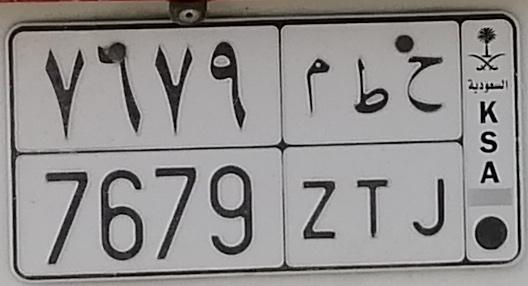6: (97, 44, 147, 262)
7: (45, 46, 89, 267), (154, 42, 198, 261)
9: (209, 40, 257, 256)
J: (406, 53, 448, 237)
T: (353, 57, 391, 239)
Z: (301, 55, 339, 240)
